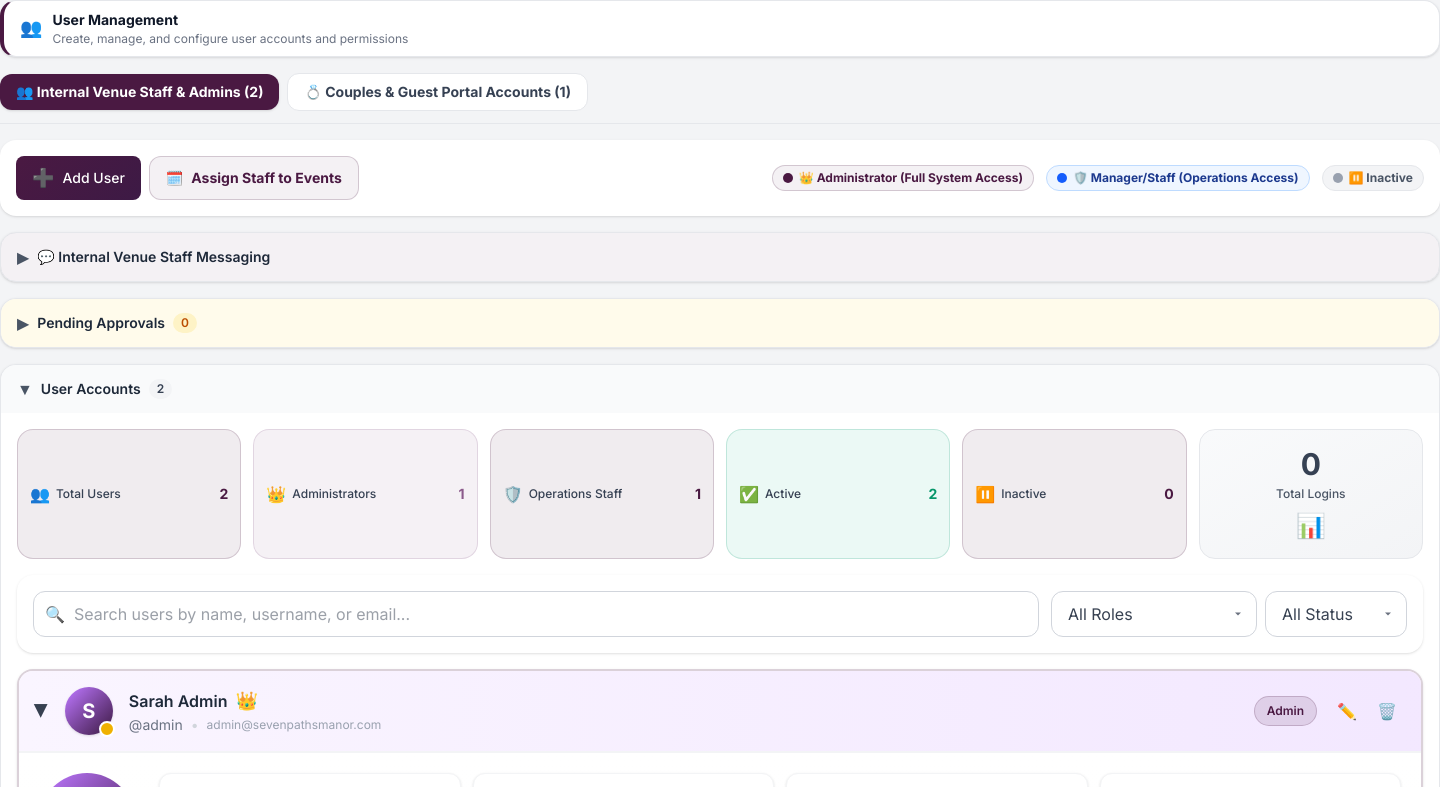
Scenario: UserManagement & AccessControl — Internal Staff RBAC & Zero-Event-Tying (#160) › allows Admins and Managers to open the Staff-to-Event Assignment Command Matrix and assign an internal staff member to work a booked couple event
Click the top-level "Assign Staff to Events" button in the Quick Actions Bar
Click the button "🗓️ Assign Staff to Events": click(254, 178) x1=149 y1=156 x2=359 y2=200
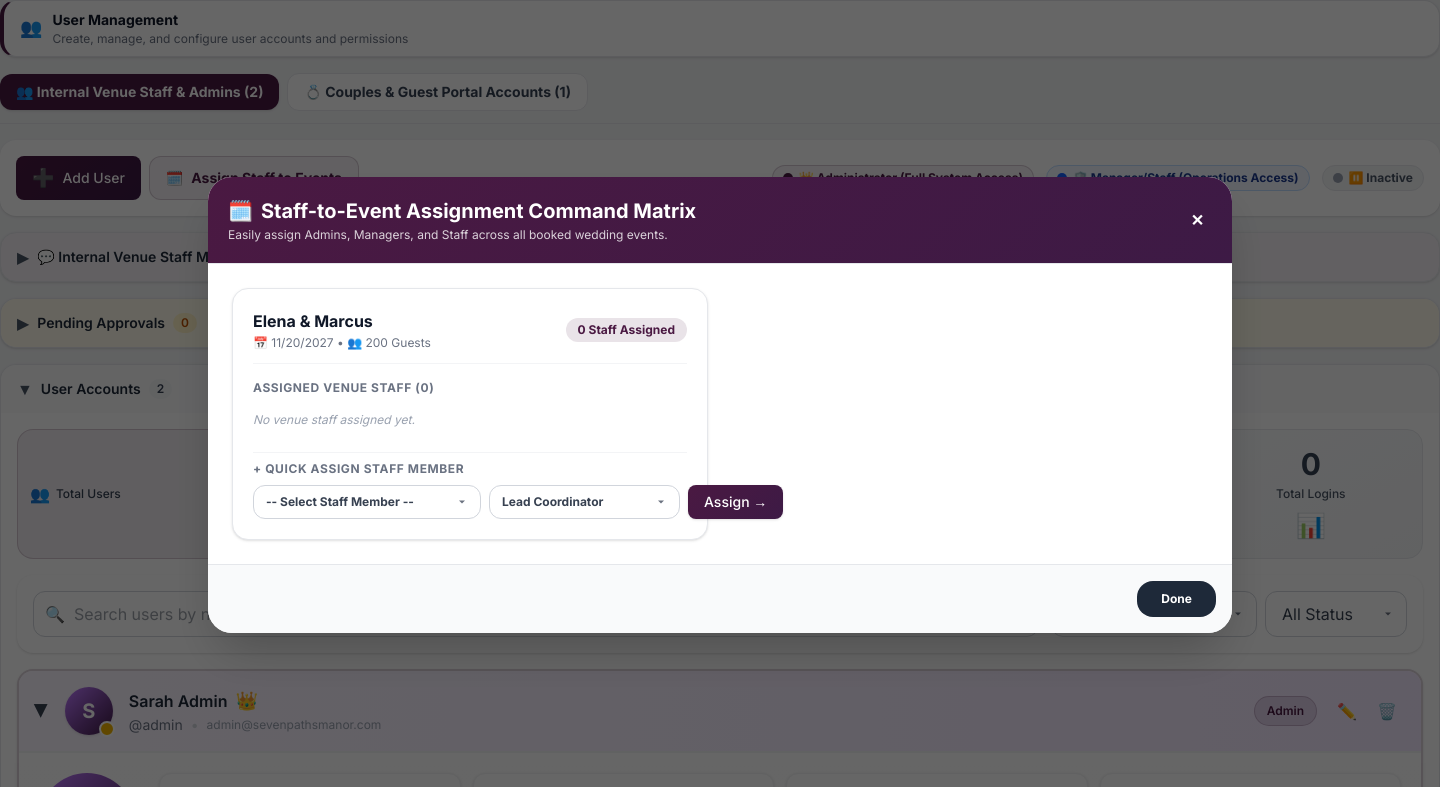
Expected: the heading "🗓️ Staff-to-Event Assignment Command Matrix" is shown, x1=228 y1=197 x2=696 y2=225
Expected: the text "0 Staff Assigned" is shown, x1=566 y1=318 x2=687 y2=342
